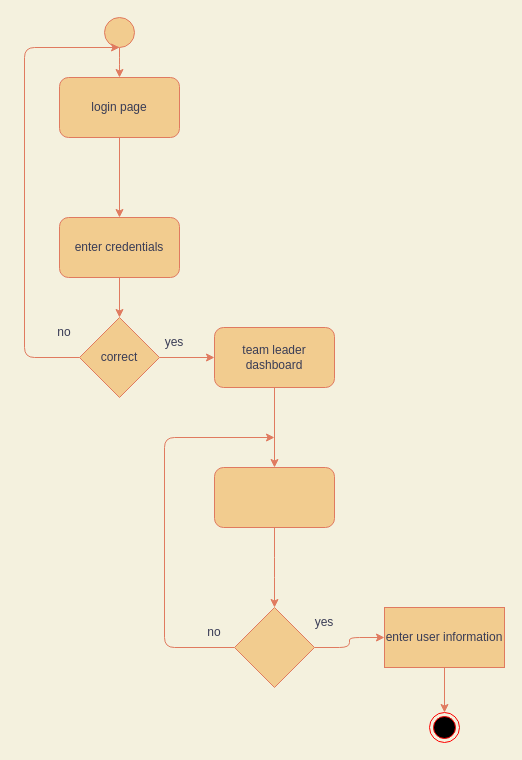
The diagram is 522 pixels wide and 760 high, and some of its shapes have lost their labels. The shapes that lost their labels are listed below. From the top down, each one's box as (x1, y1, x2, y2) in pixels, then its label:
(214, 466, 334, 528): access members
(234, 606, 314, 688): add member?
